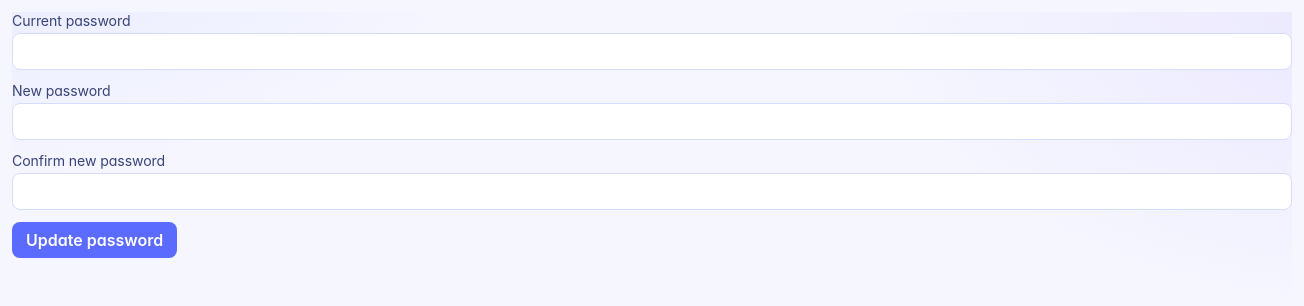
Test case: PasswordChangeForm › surfaces 401 from the API as a friendly error
The image size is (1304, 306).
Step 1. Type "wrong" into the password field labelled "Current password" → (652, 52), box [12, 33, 1292, 70]
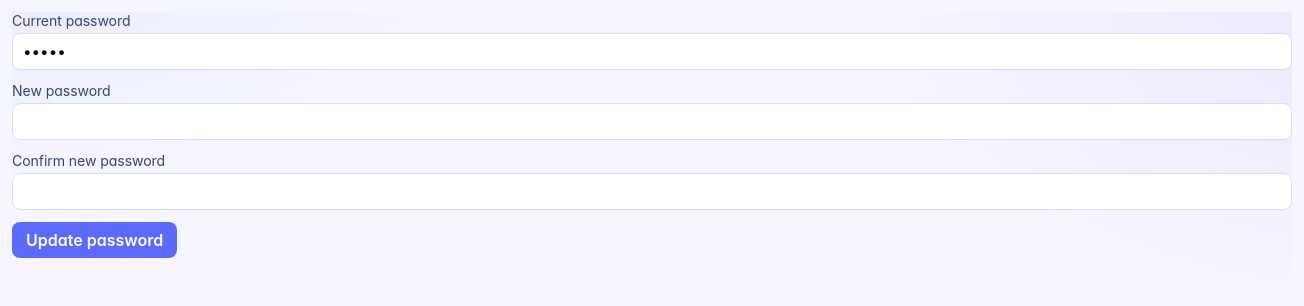
Step 2. Type "new-strong-password-1" into the password field labelled "New password" → (652, 122), box [12, 103, 1292, 140]
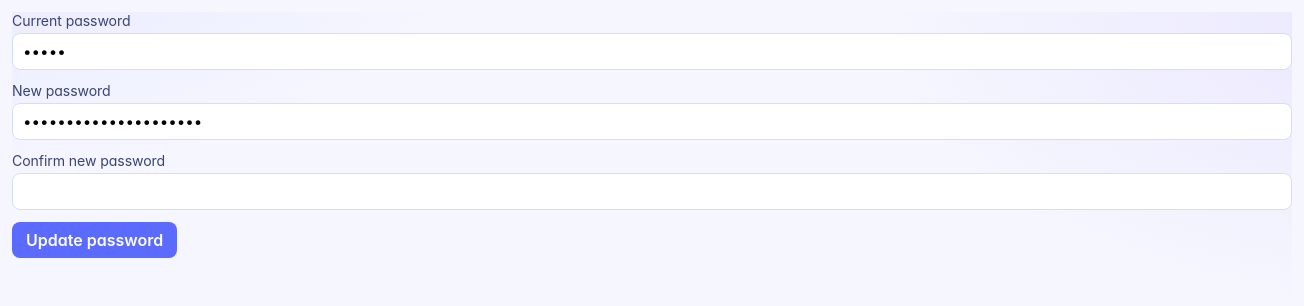
Step 3. Type "new-strong-password-1" into the password field labelled "Confirm new password" → (652, 192), box [12, 173, 1292, 210]
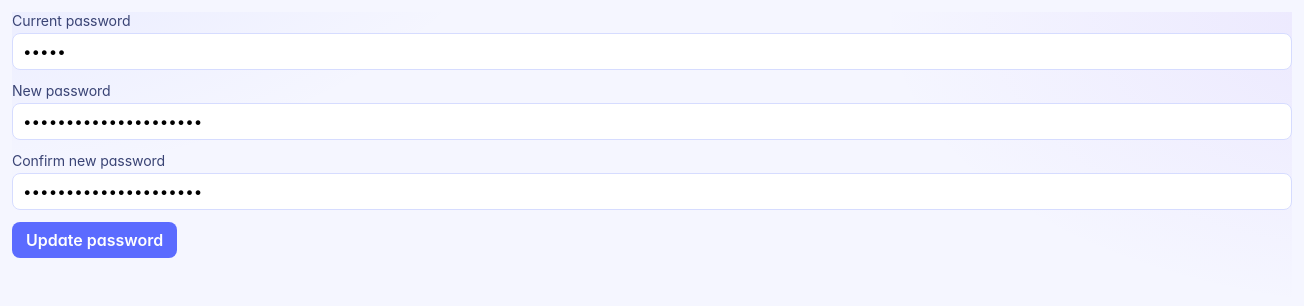
Step 4. Click the button "Update password" → (95, 240), box [12, 222, 177, 258]
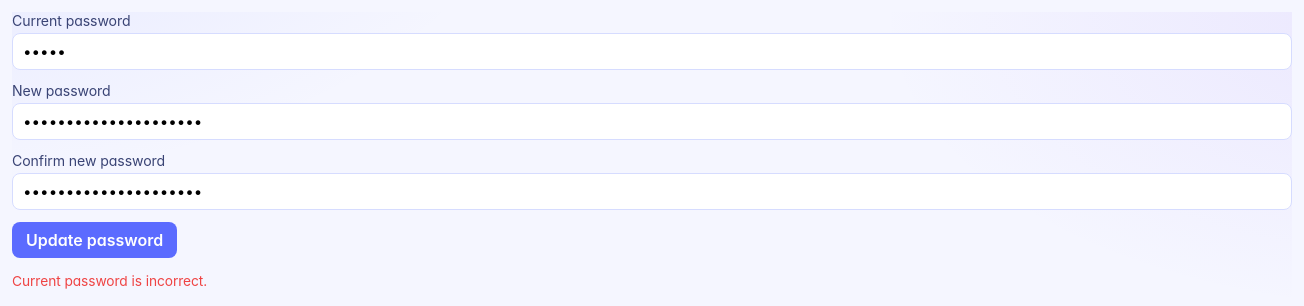
Expected: the message shows "incorrect", [12, 273, 207, 289]
